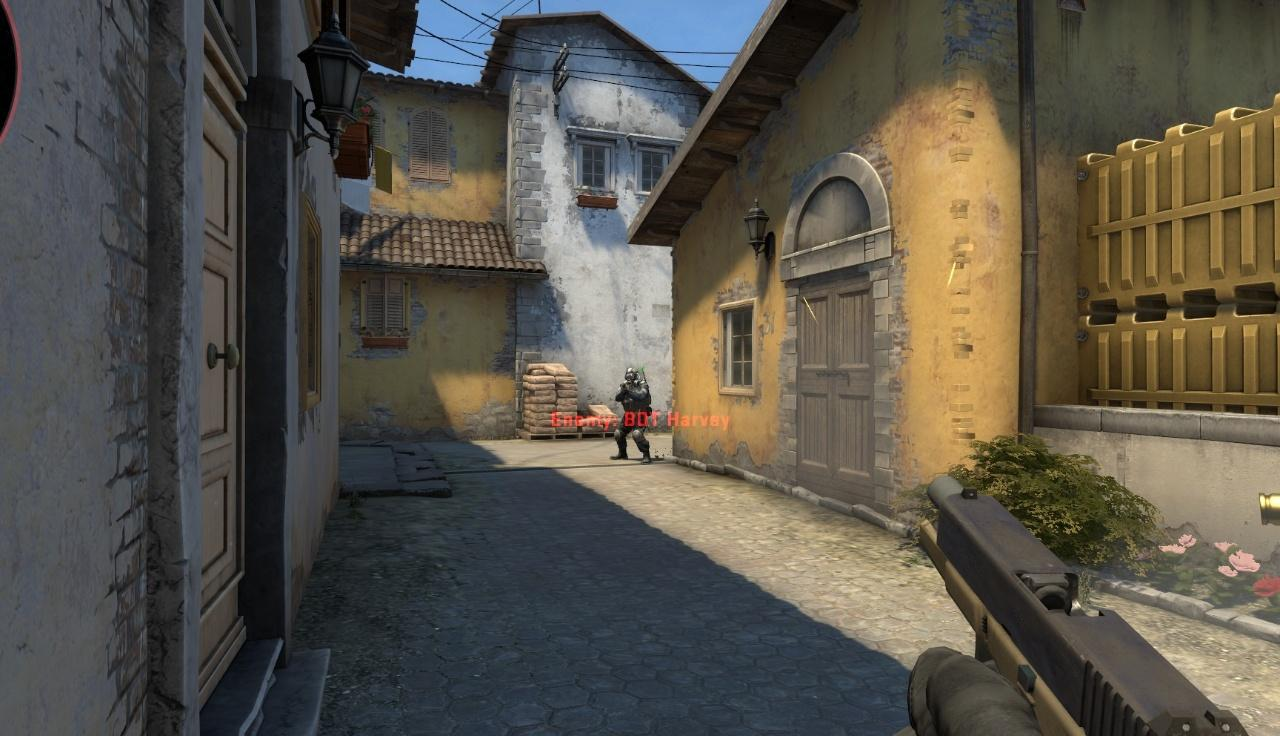ct: (610, 367, 652, 463)
cthead: (624, 368, 639, 385)
pistol: (890, 476, 1256, 736)
